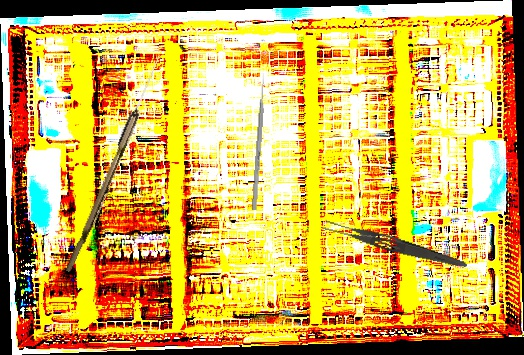Dressing Forceps: (320, 216, 470, 272)
Pusher: (251, 72, 267, 211)
Surgical Spoon: (65, 52, 164, 275)
